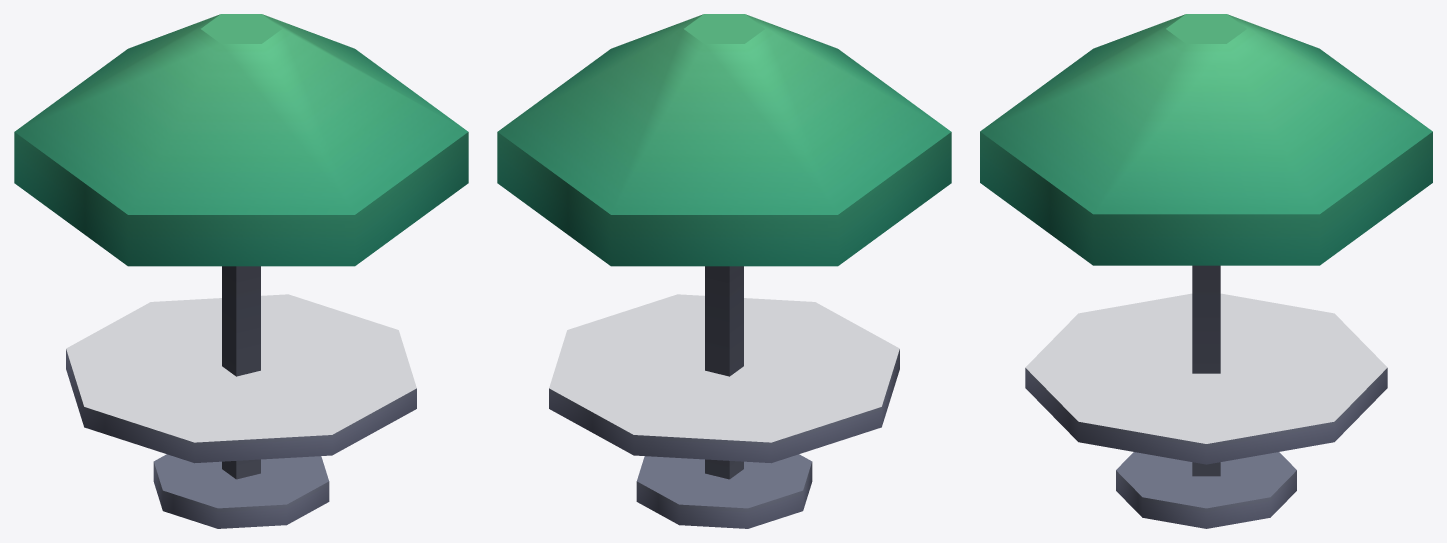
3 renders of one model, left to right at view 1: azimuth 30°, elevation 25°; view 2: azimuth 150°, elevation 25°; view 3: azimuth 270°, elevation 25°, orthographic.
Visible parts, largest first — view 1: detail-parasol-a; view 2: detail-parasol-a; view 3: detail-parasol-a.
Boxes of the visible parts, x1,y1,x2,y2 form: detail-parasol-a: (14, 14, 468, 528); detail-parasol-a: (497, 14, 951, 528); detail-parasol-a: (980, 14, 1432, 528).
Size of the model in its own units: 3.21 by 4.18 by 3.71.
Materials: 1 (1 with a texture image).
